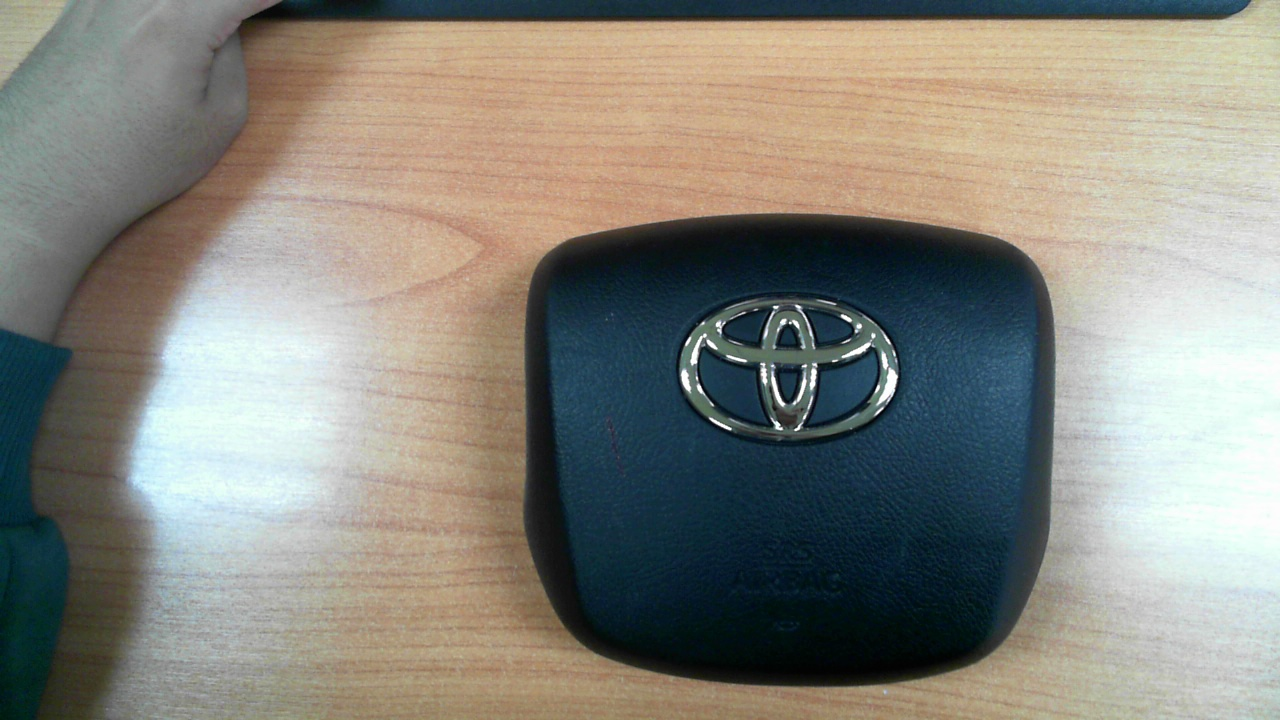Airbag: (510, 218, 1057, 687)
Toyota: (678, 291, 900, 442)
